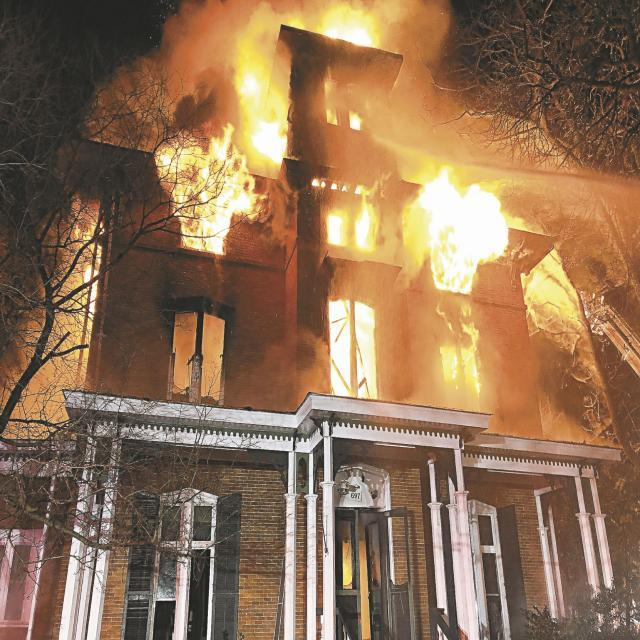Fire: (154, 121, 267, 255), (403, 165, 508, 295), (234, 41, 290, 172), (328, 300, 376, 401), (317, 4, 380, 49), (458, 302, 482, 398), (355, 184, 378, 253), (75, 218, 105, 264), (83, 265, 99, 321), (325, 208, 348, 246), (324, 70, 338, 126), (441, 347, 458, 392), (436, 303, 454, 333), (348, 111, 363, 131), (342, 561, 352, 585), (288, 17, 306, 30), (312, 178, 326, 188), (331, 181, 339, 190), (341, 184, 348, 192)
Smoke: (90, 32, 236, 144), (161, 0, 288, 71), (12, 346, 82, 434), (481, 333, 537, 416), (520, 253, 582, 327), (380, 0, 446, 59), (410, 298, 441, 408), (540, 416, 618, 448), (170, 312, 198, 392), (298, 338, 329, 406), (201, 316, 224, 402), (380, 212, 402, 267)
